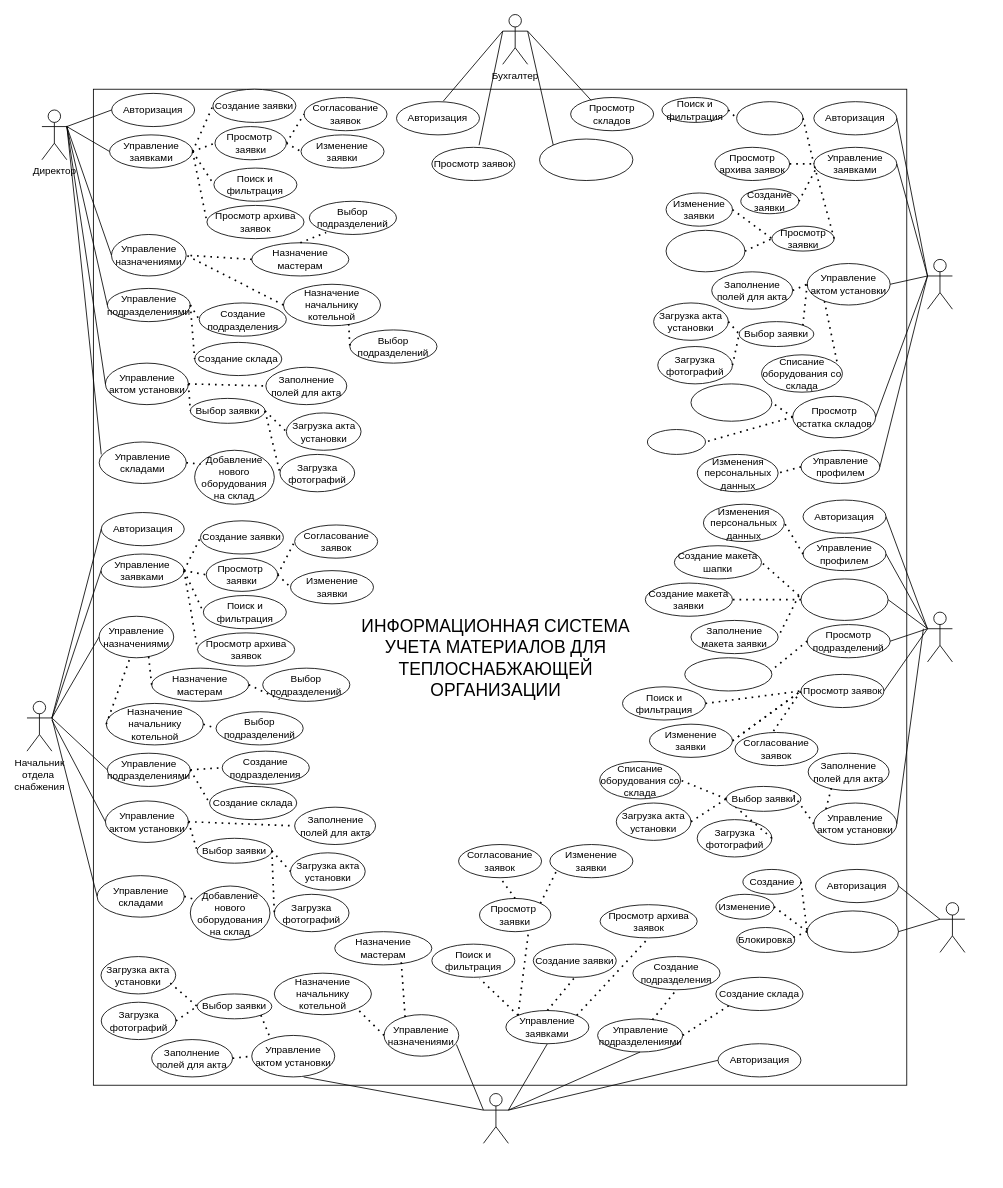
This 1003x1188 diagram has some shape labels left out. Each missing label, with the centre of its shape:
Администратор: point 952,927
Выбор подразделения: point 731,402
Выбор склада: point 676,441
Мастер участка: point 939,284
Начальник котельной: point 939,636
Просмотр всех заявок: point 769,118
Просмотр остатков складов: point 728,674
Создание повторной заявки: point 705,250
Составление отчета по заявкам: point 586,159
Технический директор: point 495,1118
Управление генератором отчетов: point 844,599
Управление пользователями: point 852,931
